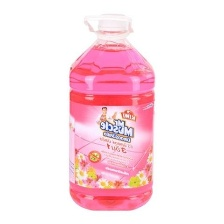cleaning_solution: (65, 8, 157, 214)
